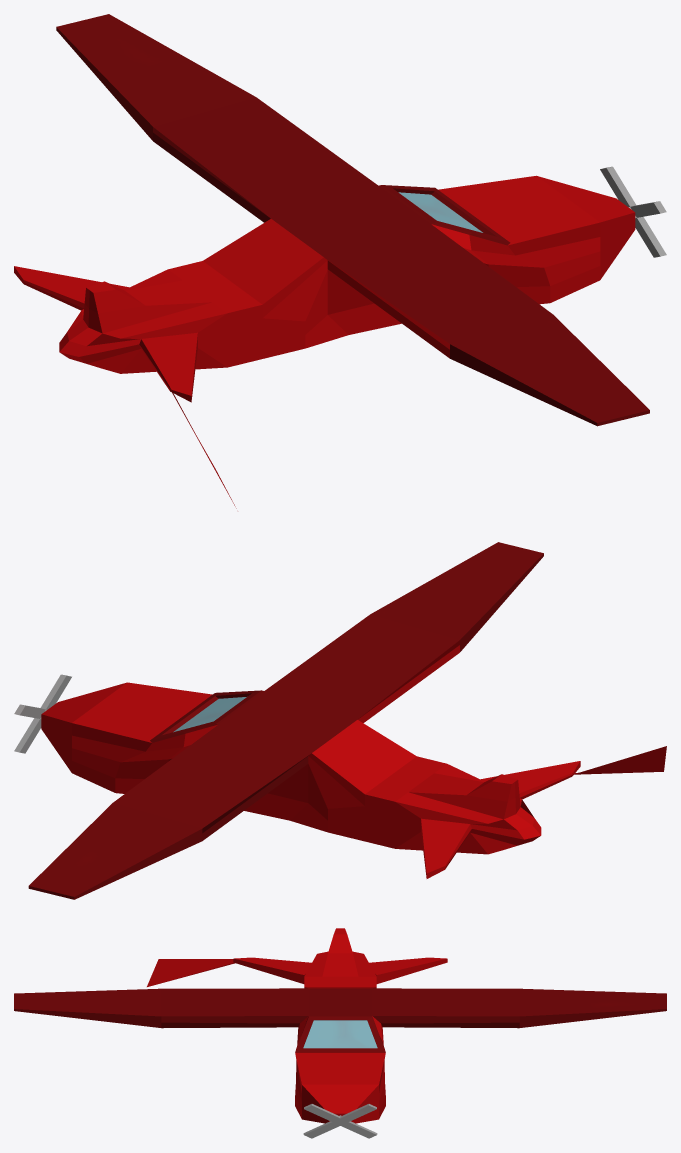
The picture shows the model from 3 angles, top to bottom: view 1: azimuth 30°, elevation 25°; view 2: azimuth 150°, elevation 25°; view 3: azimuth 270°, elevation 25°; orthographic projection. The views are drawn at different scales.
Visible parts, largest first — view 1: letalo; view 2: letalo; view 3: letalo.
Part boxes in pixels (x1,y1,x2,y2): letalo: (14, 14, 666, 508); letalo: (14, 542, 666, 899); letalo: (14, 928, 666, 1138).
Bounding box in the file's own units: 8.86 × 1.64 × 14.39.
Materials: 1 (1 with a texture image).
